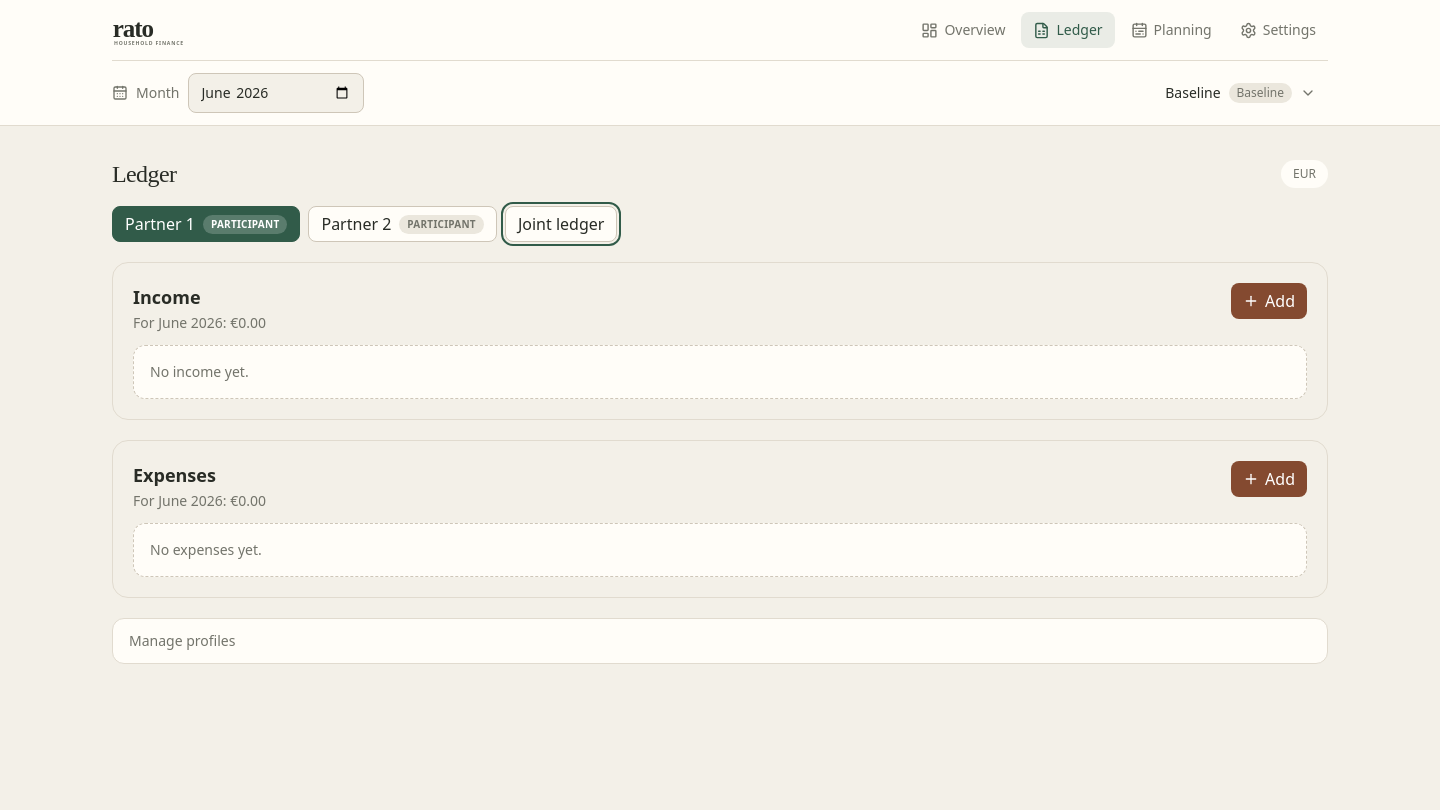
Test: ledger and profile editors › keeps owner controls keyboard focusable and switches item forms to stacked layouts on narrow screens
This screenshot has width=1440, height=810.
Step 1. Click the 1st button "Add" → (1269, 301), box [1231,283,1307,319]
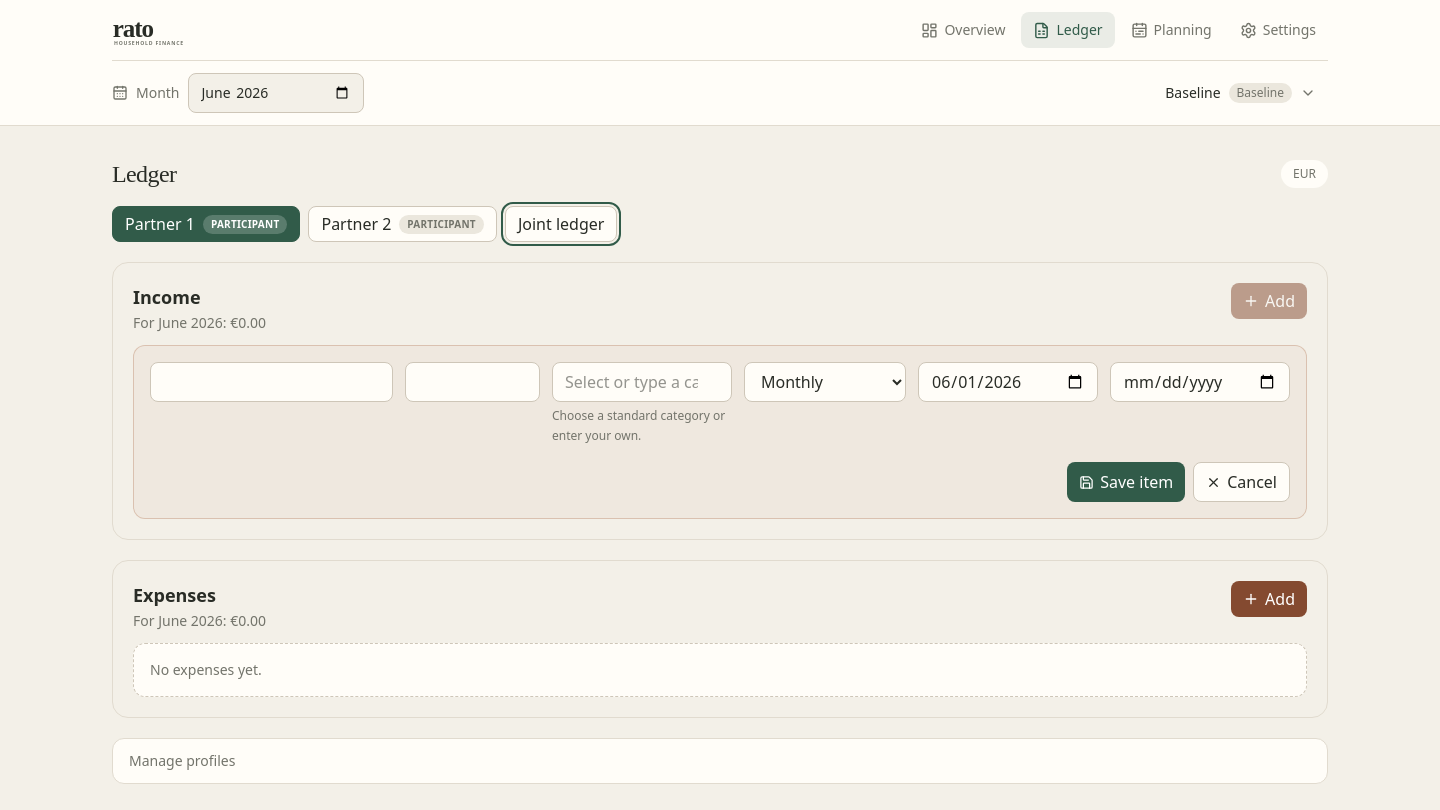
Expected: the element showing "Choose a standard category or enter your own." is shown, [150,362,1290,446]
